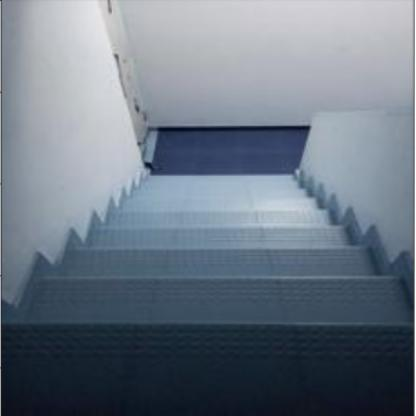stair_down: (44, 224, 328, 371)
